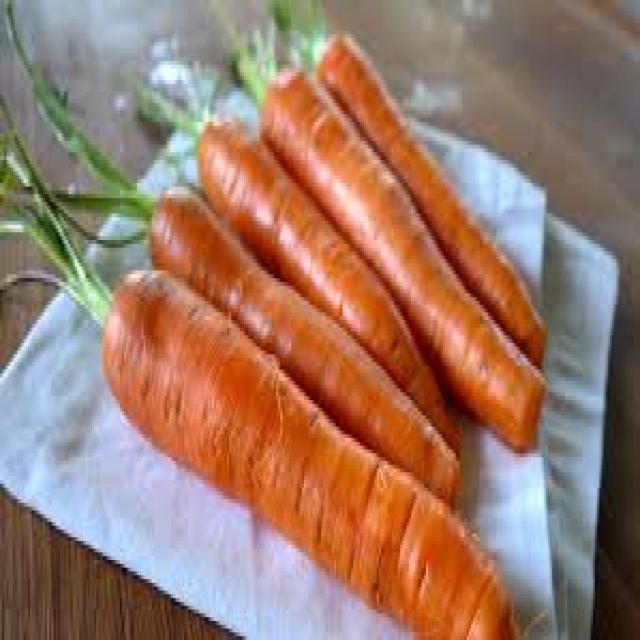Fresh_Carrot: (113, 41, 558, 634)
